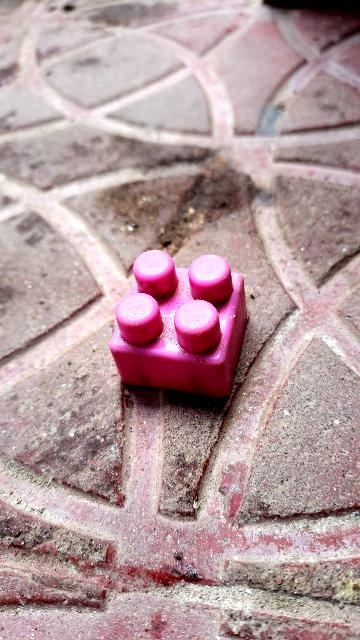hardplastic: (117, 244, 250, 390)
